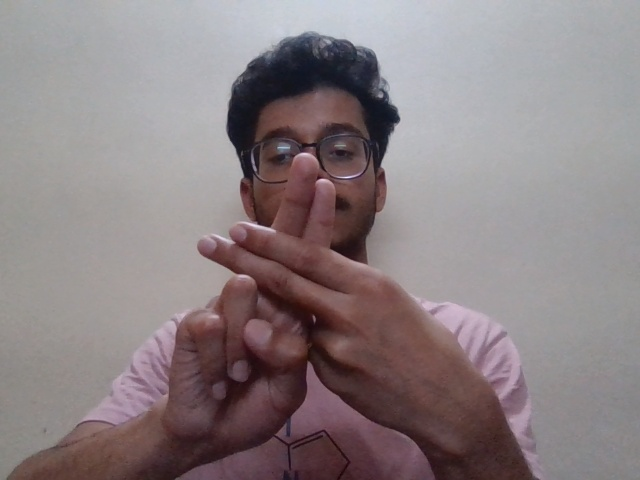disabled: (124, 151, 516, 454)
